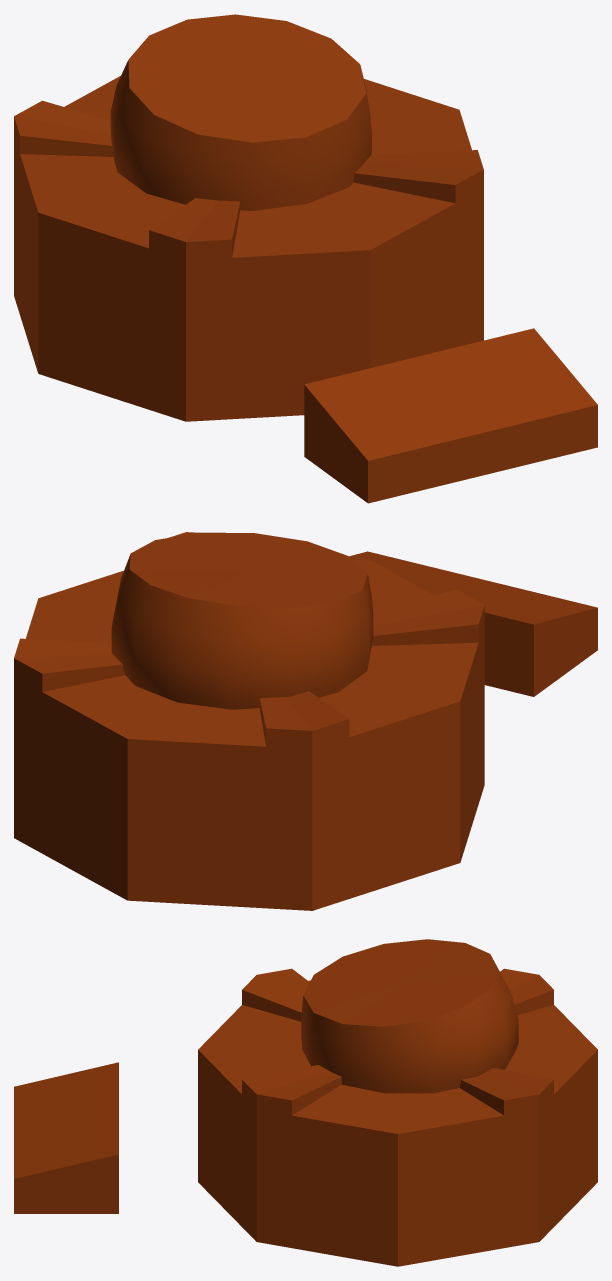
File: Dokdo_stone.FBX
The picture shows the model from 3 angles, top to bottom: view 1: azimuth 30°, elevation 25°; view 2: azimuth 150°, elevation 25°; view 3: azimuth 270°, elevation 25°; orthographic projection. The views are drawn at different scales.
Visible parts, largest first — view 1: Dokdo_stone_low; view 2: Dokdo_stone_low; view 3: Dokdo_stone_low.
Boxes of the visible parts, x1,y1,x2,y2 form: Dokdo_stone_low: [14, 14, 597, 503]; Dokdo_stone_low: [14, 532, 597, 910]; Dokdo_stone_low: [14, 939, 597, 1266].
Size of the model in its own units: 2.26 by 1.32 by 3.3.
